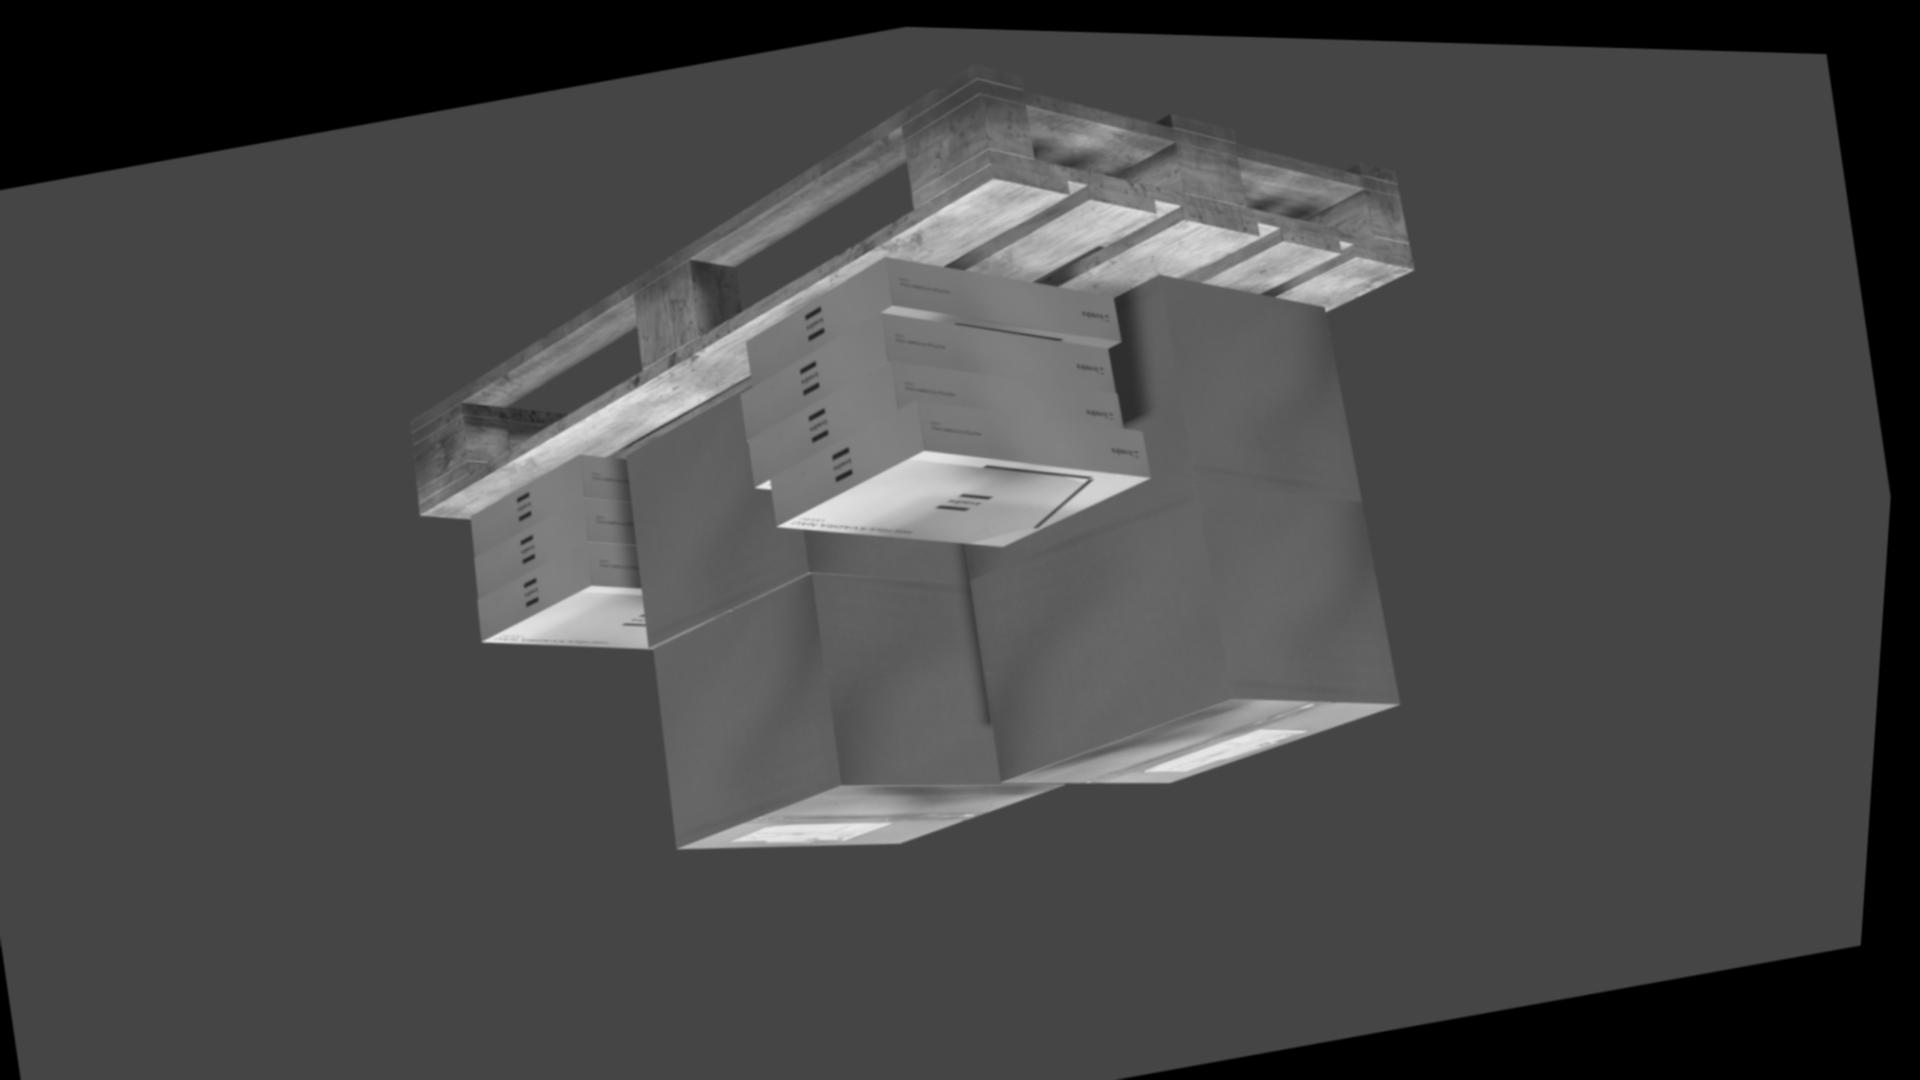group_box_left: (977, 475, 1409, 775), (973, 265, 1365, 572), (661, 569, 1010, 844), (631, 390, 976, 643)
group_box_top: (1012, 688, 1411, 776), (690, 777, 1072, 842)
laptop_left: (748, 251, 1126, 381), (747, 308, 1121, 434), (756, 355, 1129, 481), (777, 395, 1155, 518), (477, 450, 637, 553), (481, 494, 643, 593), (486, 537, 647, 636)
laptop_top: (785, 442, 1155, 540), (492, 581, 661, 645)
palet: (415, 57, 1419, 516)
